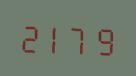nine: (90, 20, 113, 57)
one: (42, 19, 65, 55)
seven: (66, 19, 89, 56)
two: (18, 18, 41, 55)
